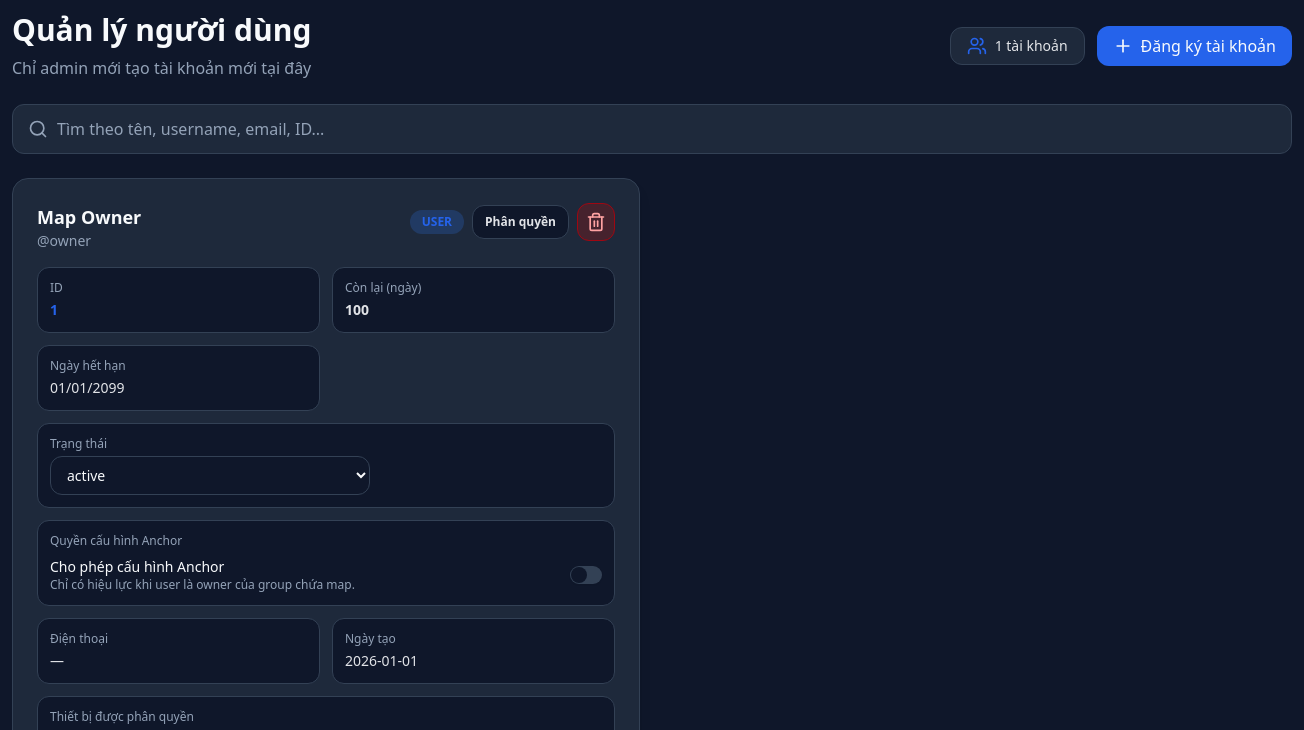
UserManagement anchor permission › rolls back the user switch and reports the API error
Click the switch named "Cho phép @owner cấu hình Anchor".
click(586, 575)  # box [570, 566, 602, 584]
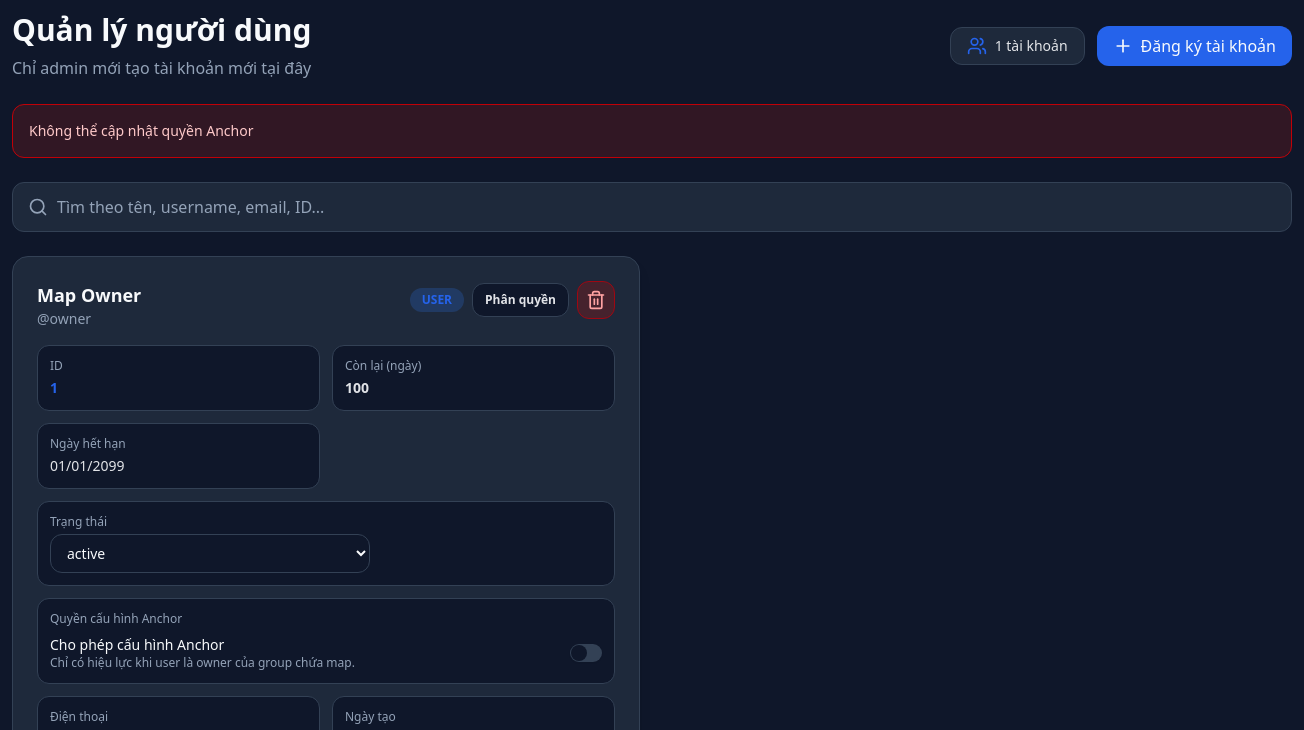
Expected: the message reads "Không thể cập nhật quyền Anchor", [29, 121, 253, 140]
